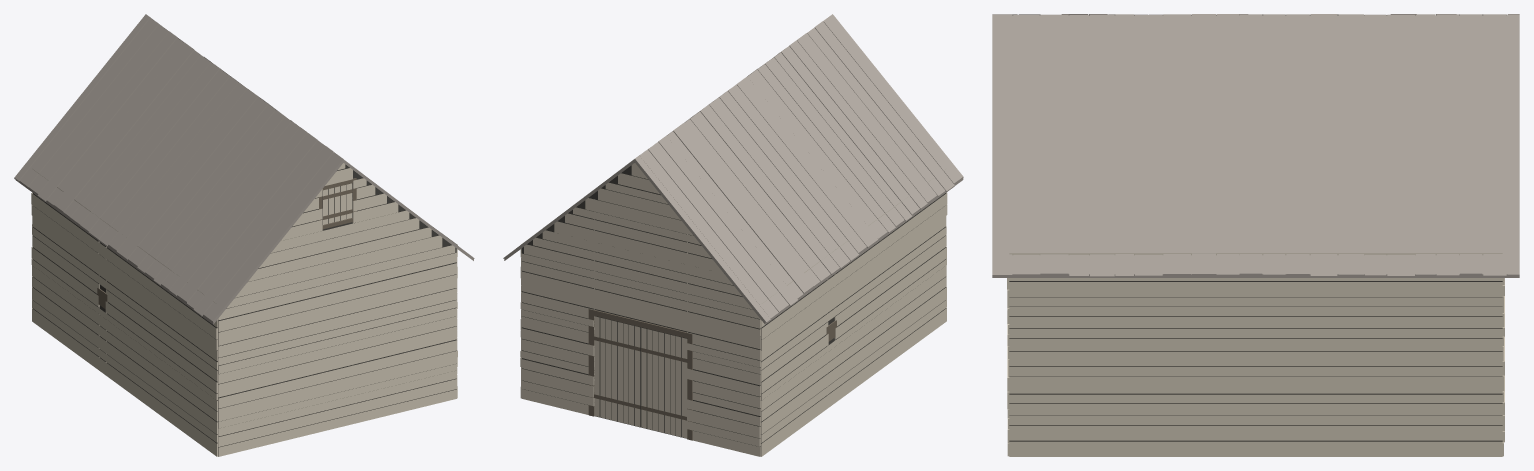
The model's file is recon_1835_north_a2_059__inferred_1835.glb.
3 renders of one model, left to right at view 1: azimuth 30°, elevation 25°; view 2: azimuth 150°, elevation 25°; view 3: azimuth 270°, elevation 25°, orthographic. The views are drawn at different scales.
Visible parts, largest first — view 1: recon_1835_north_a2_059__inferred_1835; view 2: recon_1835_north_a2_059__inferred_1835; view 3: recon_1835_north_a2_059__inferred_1835.
Boxes of the visible parts, x1,y1,x2,y2 form: recon_1835_north_a2_059__inferred_1835: [14, 14, 474, 456]; recon_1835_north_a2_059__inferred_1835: [503, 14, 963, 456]; recon_1835_north_a2_059__inferred_1835: [992, 14, 1519, 456].
Size of the model in its own units: 8.21 by 8.13 by 10.66.
